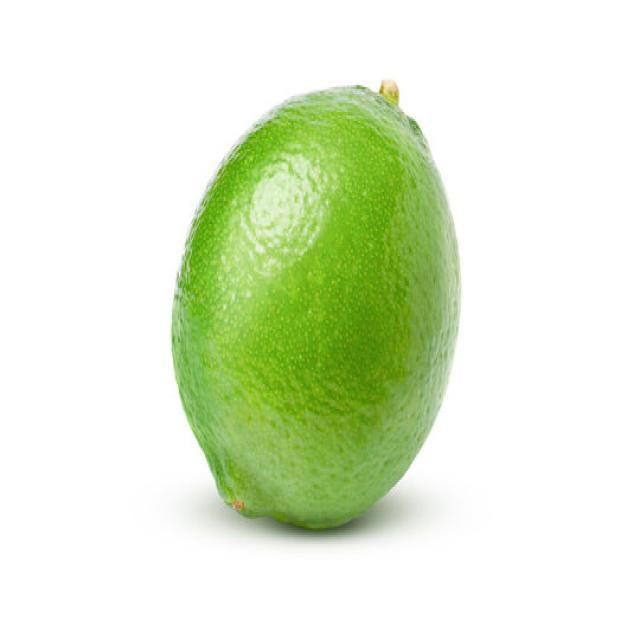Lemon: (163, 81, 463, 528)
